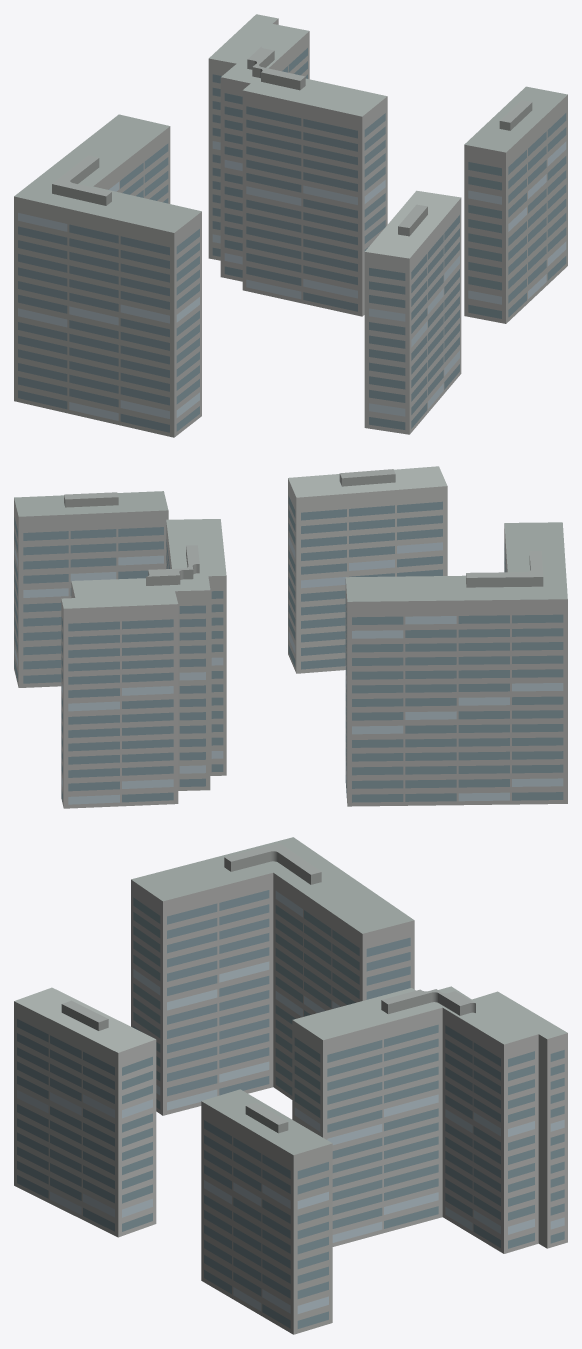
The model's file is apt-a12008001.glb.
3 renders of one model, top to bottom at view 1: azimuth 30°, elevation 25°; view 2: azimuth 150°, elevation 25°; view 3: azimuth 270°, elevation 25°, orthographic. The views are drawn at different scales.
Parts seen in each view (by area): view 1: apt-a12008001; view 2: apt-a12008001; view 3: apt-a12008001.
Boxes of the visible parts, left/top/right/bottom form: apt-a12008001: left=14, top=14, right=567, bottom=437; apt-a12008001: left=14, top=466, right=567, bottom=808; apt-a12008001: left=14, top=837, right=567, bottom=1334.
Size of the model in its own units: 116 by 43 by 96.12.
